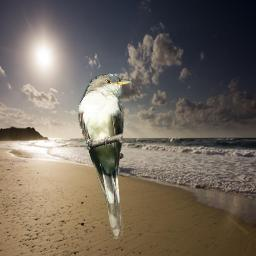Cuckoo: (78, 73, 132, 240)
